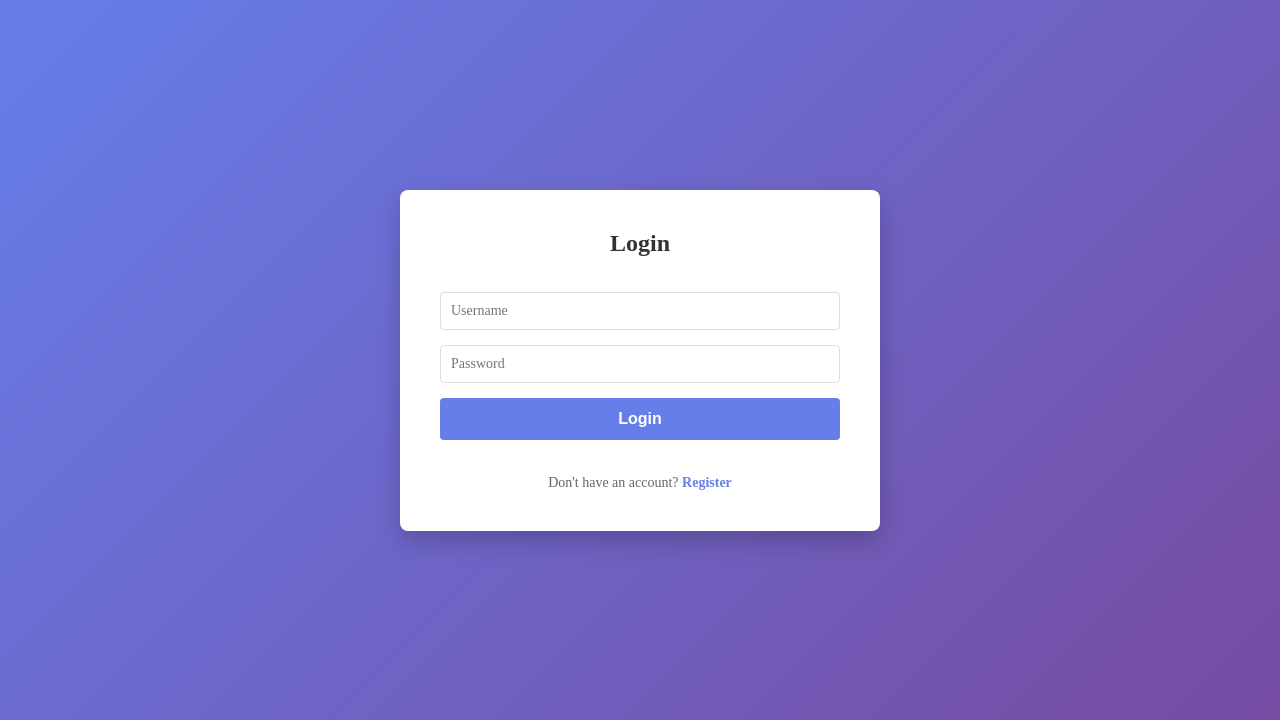
it: Login E2E Tests › Should show error when credentials invalid
Type "saiUser" into the field with test id "username-input" at (640, 311), box [440,292,840,330]
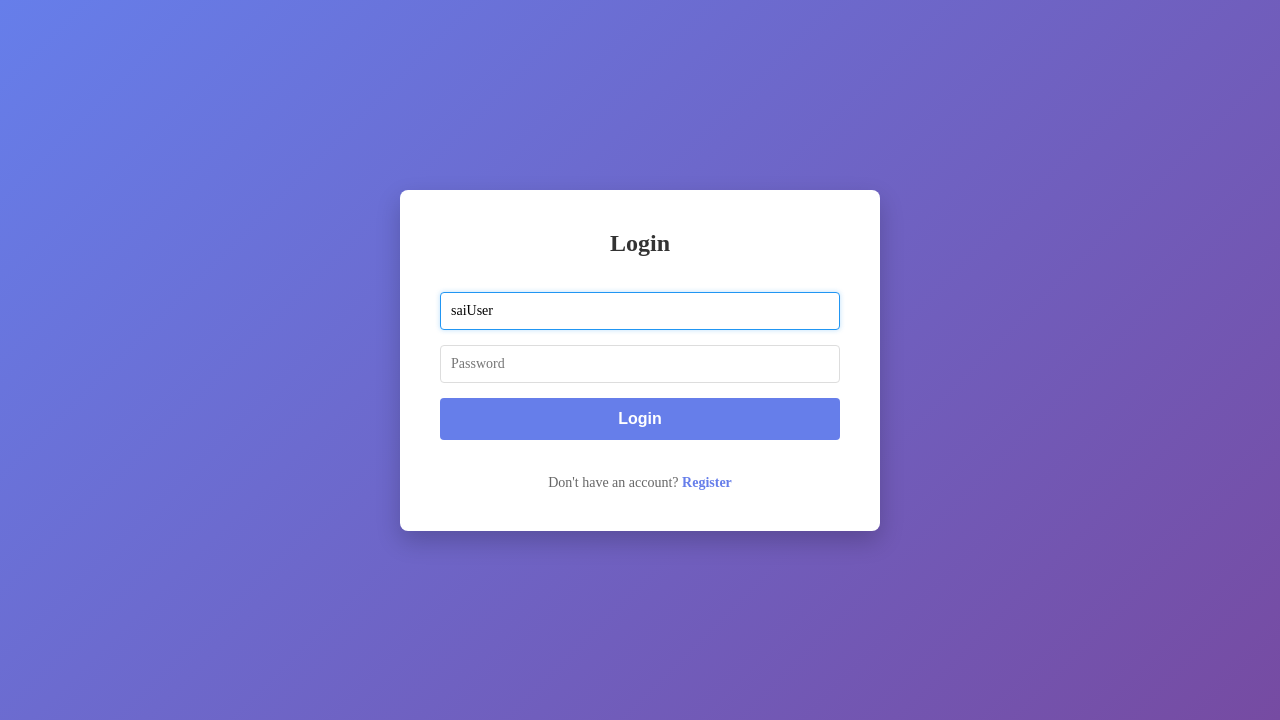
Type "saiPass" into the password field with test id "password-input" at (640, 364), box [440,345,840,383]
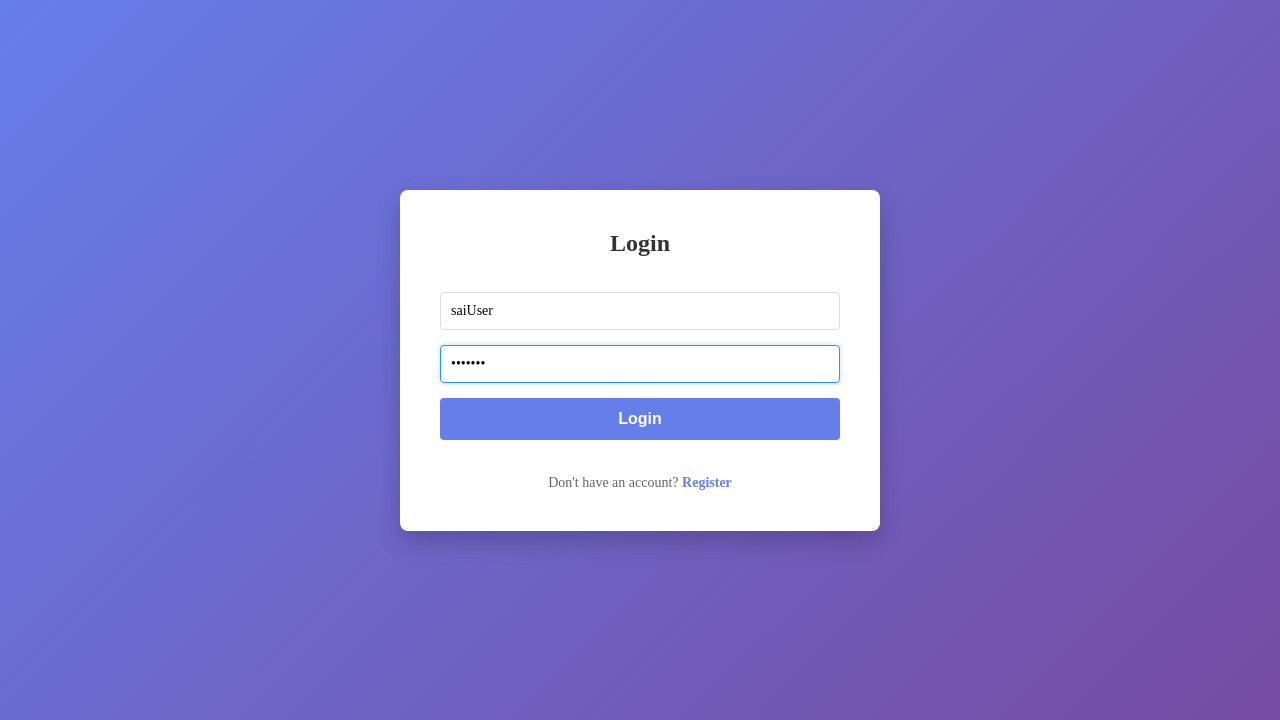
Click the button with test id "login-button" at (640, 419), box [440,398,840,440]
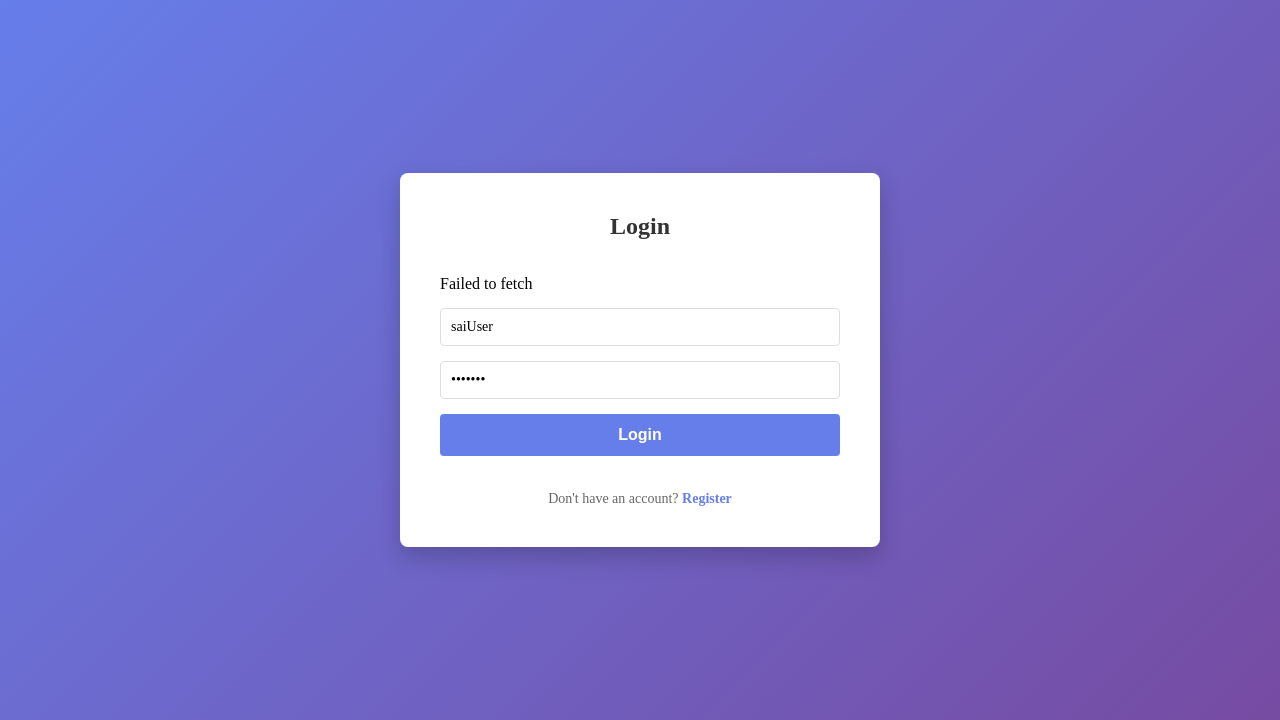
Now the text with test id "login-message" is shown, box [440,275,532,292]
